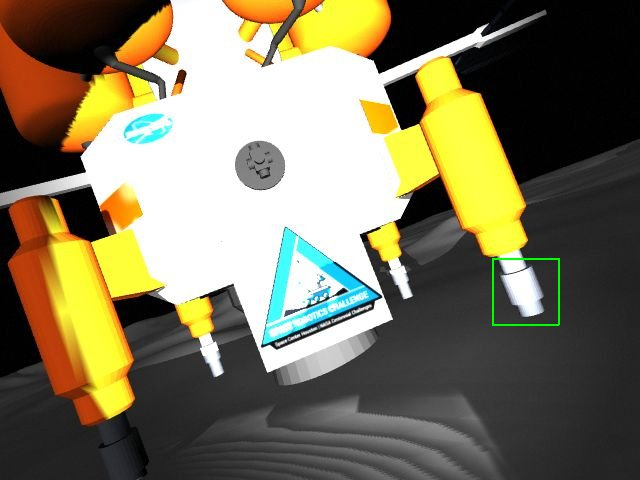basemarker: (261, 227, 384, 349)
